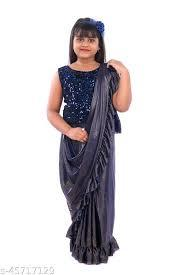Human: (48, 19, 138, 264)
